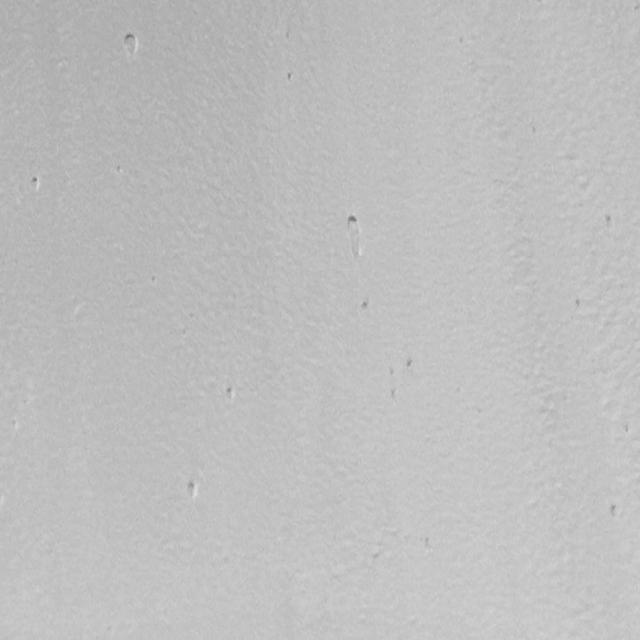pin holes: (341, 211, 370, 260), (120, 31, 142, 60), (182, 478, 201, 504), (220, 384, 240, 407), (606, 501, 624, 524), (386, 387, 402, 408), (29, 177, 43, 194), (604, 214, 617, 232), (286, 68, 300, 84), (360, 298, 372, 316), (404, 359, 417, 374), (388, 366, 401, 381), (621, 422, 633, 437), (572, 297, 584, 312)
